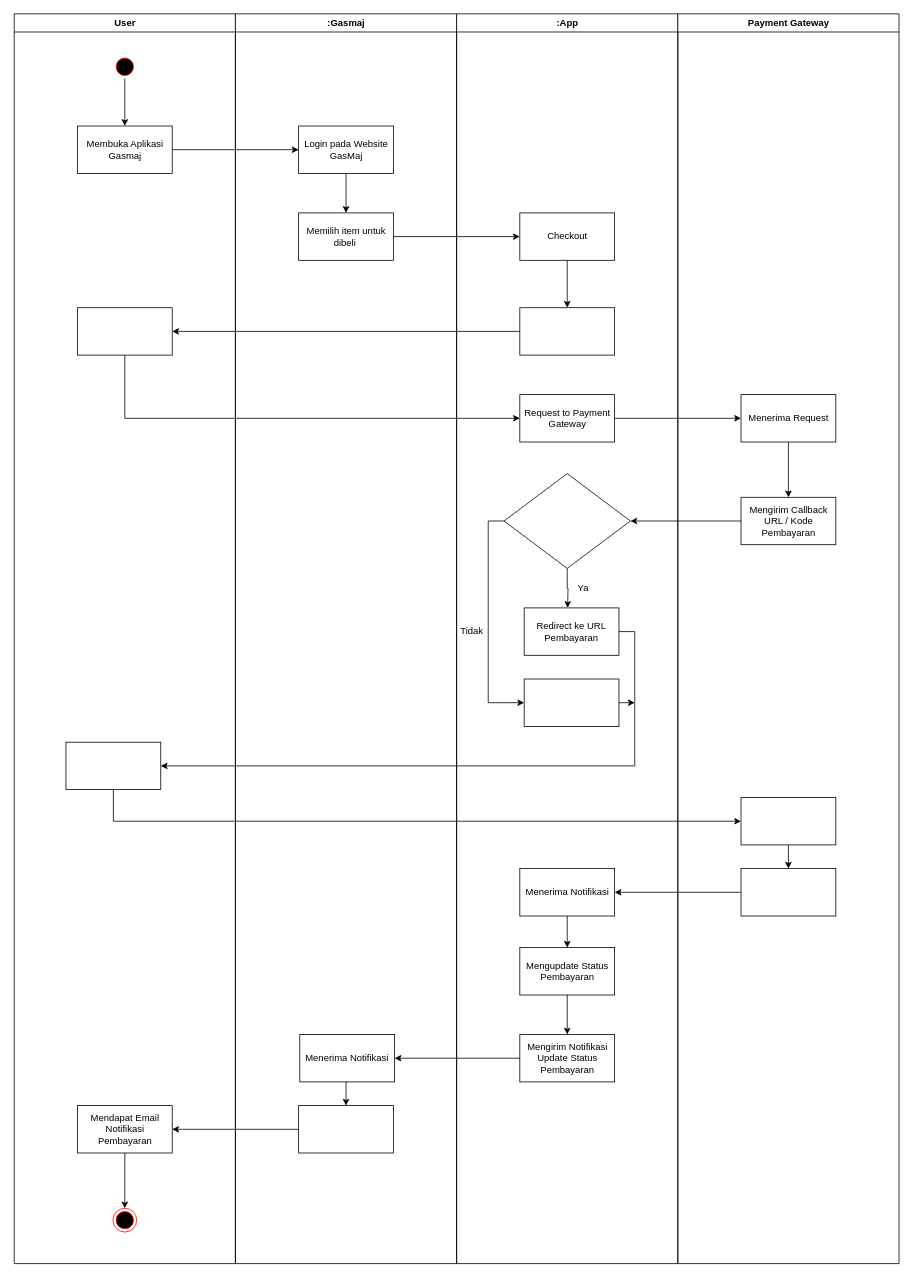
Some shapes in this 912 by 1277 pixel diagram are drawn without their labels. The shapes that lost their labels are listed below. From the top down, each one's centre as x and y in pixels, then its label:
the point at 124,331: Memilih Metode Pembayaran
the point at 567,331: Menampilkan Metode Pembayaran
the point at 566,520: Callback berupa URL ?
the point at 571,702: Menampilkan Kode Pembayaran
the point at 113,765: Melakukan Pembayaran
the point at 788,821: Menerima Pembayaran
the point at 788,892: Mengirim Notifikasi Pembayaran
the point at 345,1129: Mengupdate Status Pesanan
